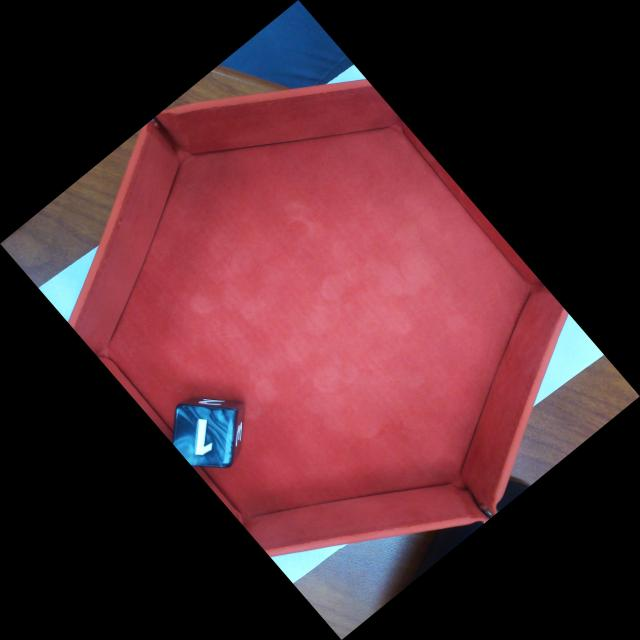dice: (168, 403, 236, 469)
